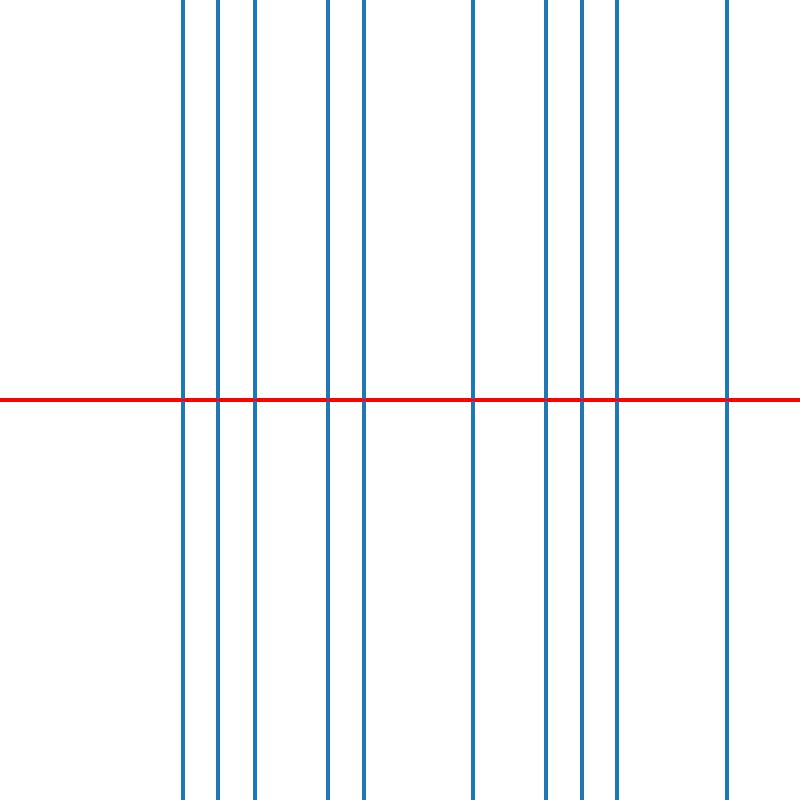root: (250, 396, 258, 404), (541, 396, 549, 404), (323, 396, 330, 404), (723, 396, 730, 404), (214, 396, 221, 404), (178, 396, 185, 404), (578, 396, 585, 404), (360, 396, 367, 404), (614, 396, 621, 404), (469, 396, 476, 404)
